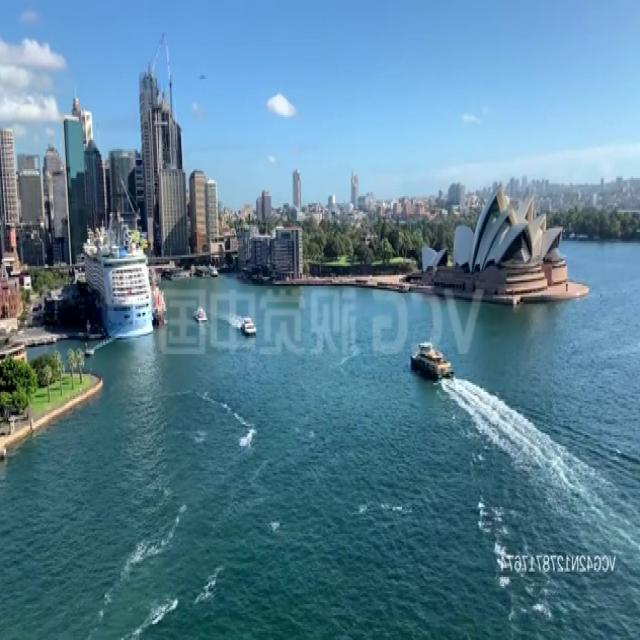houseboat: (409, 336, 456, 381), (242, 312, 256, 335), (194, 302, 208, 325)
passenger ship: (82, 204, 151, 340)
